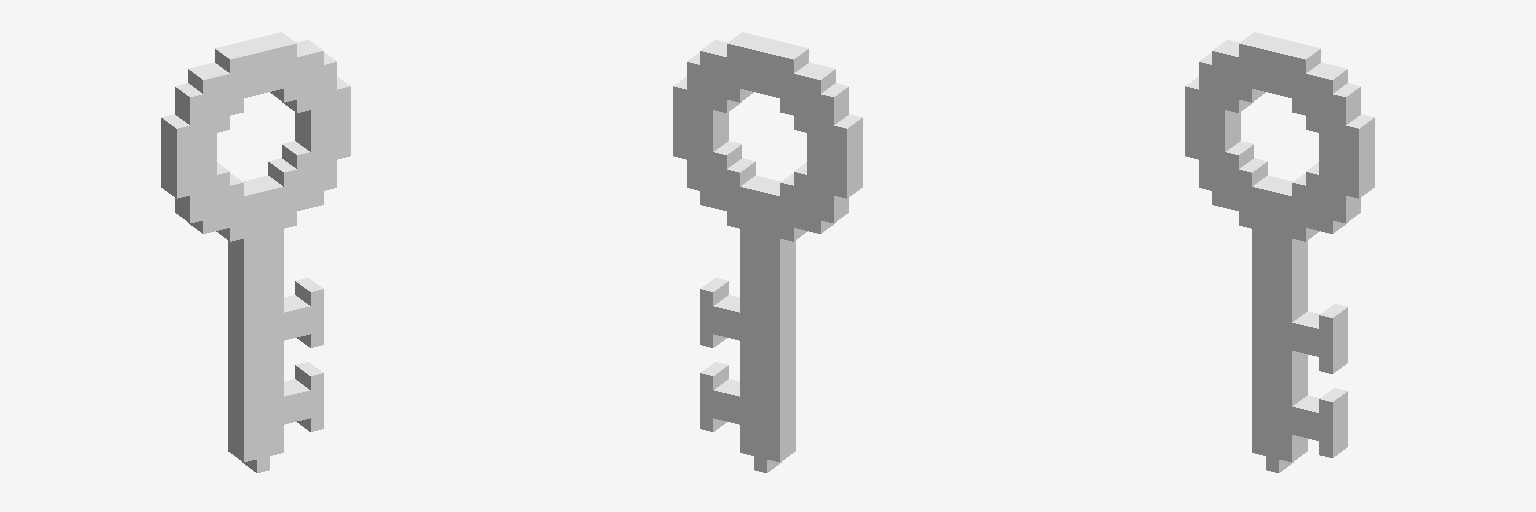
File: chave.obj
The picture shows the model from 3 angles: view 1: azimuth 30°, elevation 25°; view 2: azimuth 150°, elevation 25°; view 3: azimuth 330°, elevation 25°; orthographic projection.
Parts seen in each view (by area): view 1: chave; view 2: chave; view 3: chave.
Part boxes in pixels (left/top/right/bottom): chave: left=161, top=32, right=350, bottom=472; chave: left=673, top=32, right=862, bottom=472; chave: left=1185, top=32, right=1374, bottom=472.
Bounding box in the file's own units: 13 × 30 × 2.